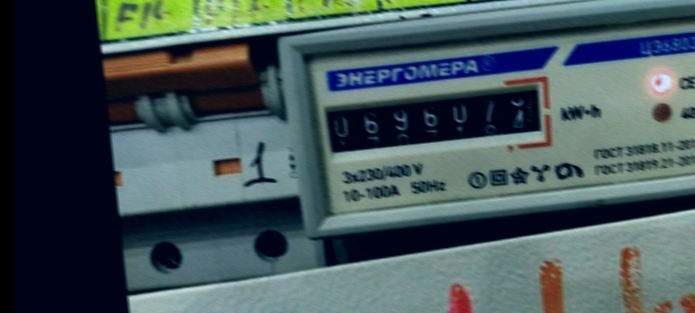0: (331, 110, 351, 135), (450, 95, 468, 122)
4: (509, 104, 527, 129)
6: (361, 107, 381, 132), (421, 99, 440, 125)
7: (480, 94, 498, 121)
9: (391, 103, 409, 129)
screen: (310, 66, 559, 165)
